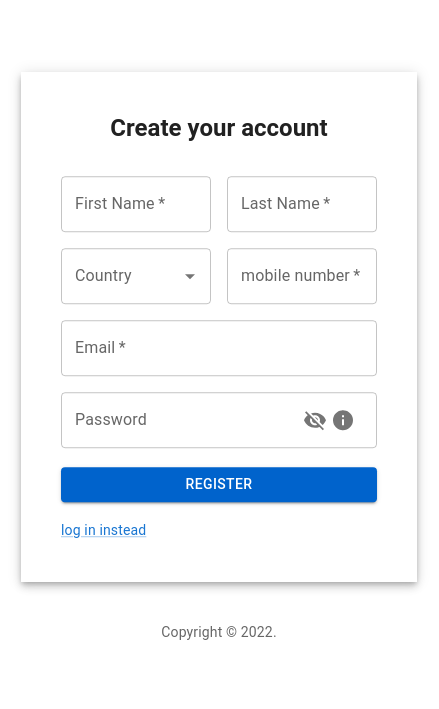
Test: Testing account registration › Check that password errors display correctly
This screenshot has width=439, height=709.
Click the button "Register".
click(219, 485)  # box [61, 467, 377, 502]
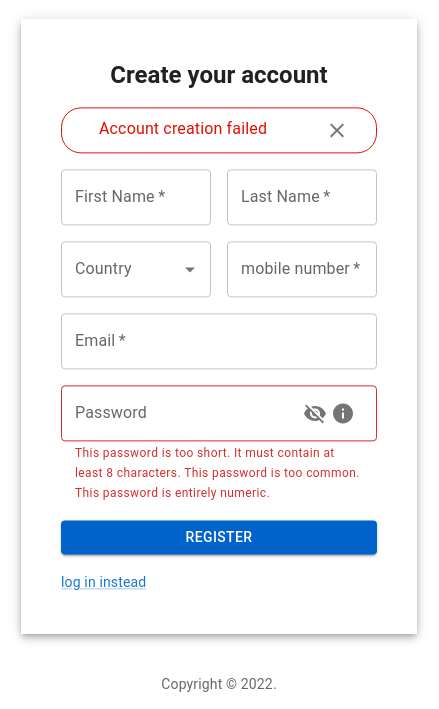
Check: the text "This password is too short. It must contain at least 8 characters. This password is too common. This password is entirel" is shown, box [75, 446, 360, 500]
